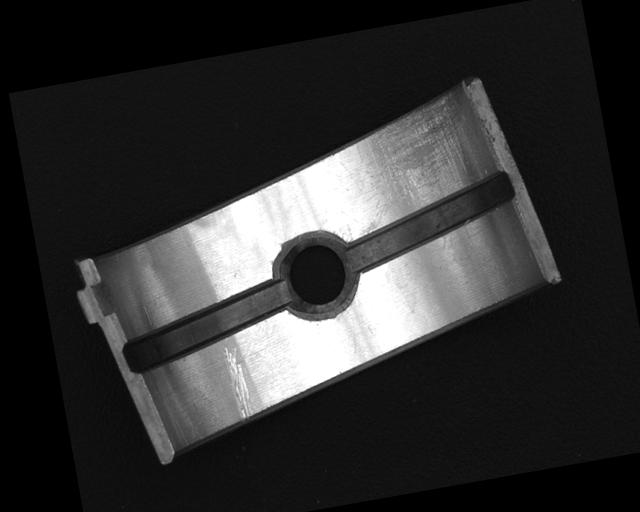gap: (335, 172, 523, 275), (114, 279, 302, 376)
hole: (266, 222, 366, 329)
nick: (223, 342, 253, 423)
scratch: (338, 90, 483, 235)
